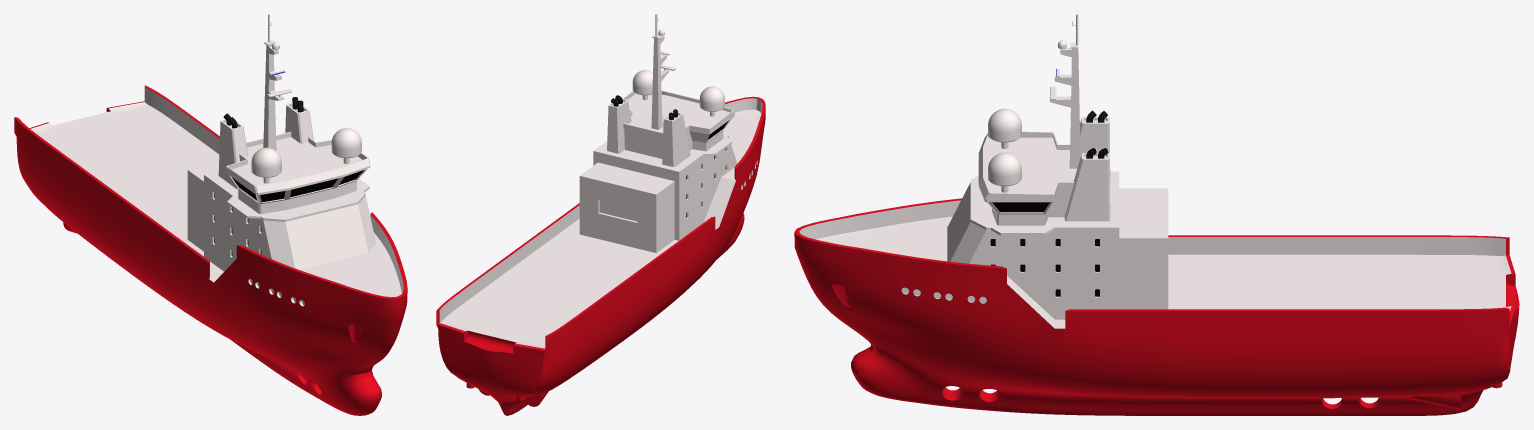
3 views of the same model, side by side, from view 1: azimuth 30°, elevation 25°; view 2: azimuth 150°, elevation 25°; view 3: azimuth 270°, elevation 25° (orthographic). The views are drawn at different scales.
Visible parts, largest first — view 1: Cube.162, Cube.160, Cube.158, Cube.151, Cube.145, Sphere.034, Sphere.033; view 2: Cube.162, Cube.160, Cube.158, Cube.151, Cube.145, Sphere.034, Sphere.033; view 3: Cube.162, Cube.160, Cube.158, Cube.151, Cube.145, Sphere.034, Sphere.033.
Boxes of the visible parts, box(x1,y1,x2,y2) form: Cube.162: box(14, 85, 407, 415); Cube.160: box(187, 162, 375, 271); Cube.158: box(226, 132, 370, 214); Cube.151: box(218, 103, 313, 189); Cube.145: box(263, 45, 284, 150); Sphere.034: box(251, 147, 281, 177); Sphere.033: box(331, 128, 361, 158); Cube.162: box(436, 96, 765, 415); Cube.160: box(579, 130, 737, 252); Cube.158: box(623, 90, 734, 158); Cube.151: box(607, 99, 690, 166); Cube.145: box(651, 36, 669, 129); Sphere.034: box(699, 86, 724, 111); Sphere.033: box(632, 70, 652, 95); Cube.162: box(794, 198, 1519, 415); Cube.160: box(947, 171, 1168, 319); Cube.158: box(978, 131, 1097, 225); Cube.151: box(1064, 117, 1110, 221); Cube.145: box(1049, 47, 1080, 168); Sphere.034: box(988, 108, 1021, 142); Sphere.033: box(988, 152, 1021, 186).
Bounding box in the file's own units: 32.59 × 80.41 × 132.
